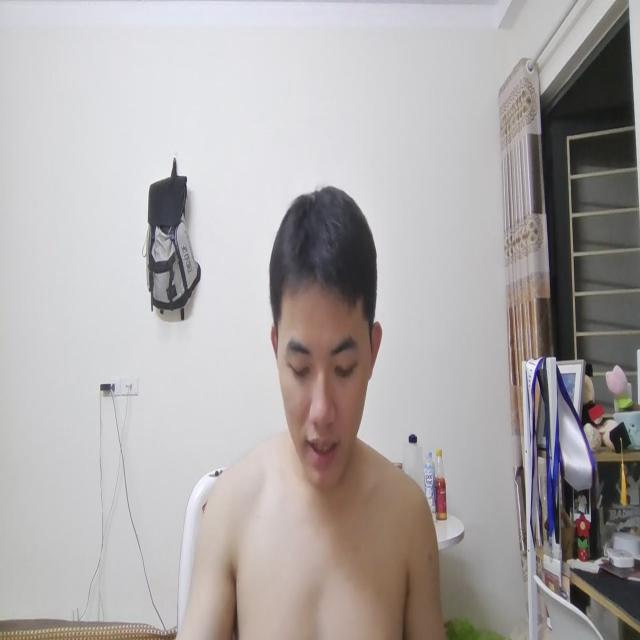student: (242, 167, 404, 635)
